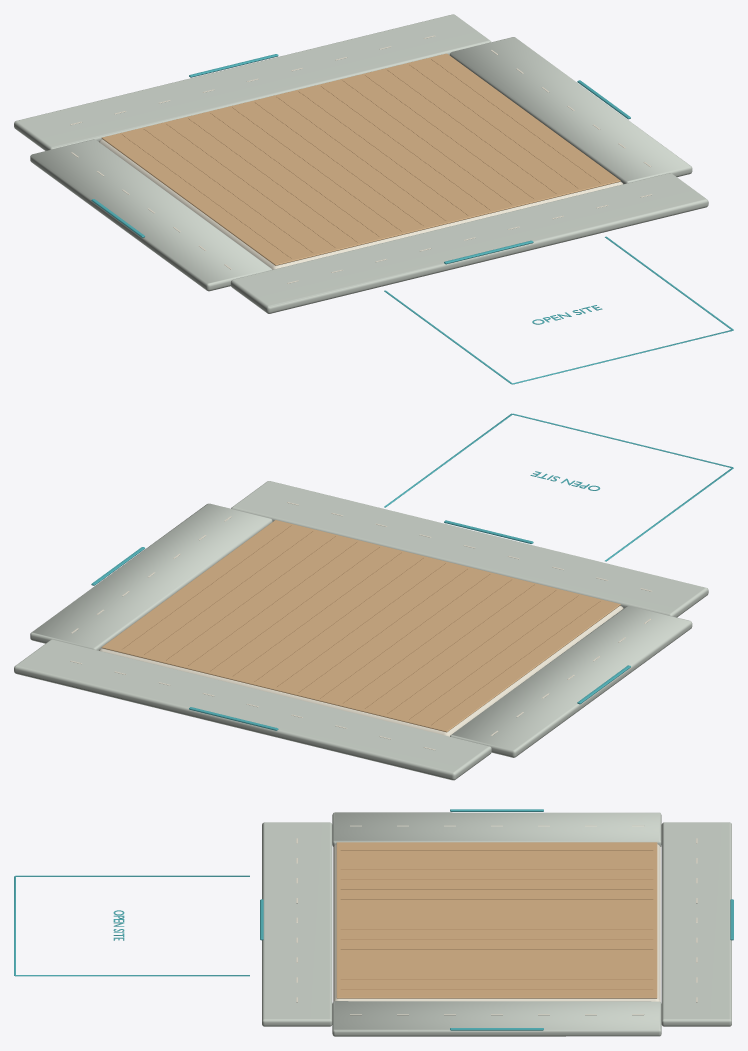
File: lobby.glb
The picture shows the model from 3 angles, top to bottom: view 1: azimuth 30°, elevation 25°; view 2: azimuth 150°, elevation 25°; view 3: azimuth 270°, elevation 25°; orthographic projection. The views are drawn at different scales.
Visible parts, largest first — view 1: Lobby / ash floor.001, Loop / south.001, Loop / north.001, Loop / west.001, Loop / east.001, Lobby / floating plinth.001; view 2: Lobby / ash floor.001, Loop / north.001, Loop / south.001, Loop / west.001, Loop / east.001, Lobby / floating plinth.001; view 3: Lobby / ash floor.001, Loop / north.001, Loop / south.001, Loop / east.001, Loop / west.001, Lobby / floating plinth.001, Vacant / outline.003, Vacant / outline.004.
Part boxes in pixels (left/top/right/bottom): Lobby / ash floor.001: left=101, top=53, right=620, bottom=265; Loop / south.001: left=230, top=173, right=708, bottom=313; Loop / north.001: left=14, top=14, right=491, bottom=150; Loop / west.001: left=30, top=139, right=272, bottom=291; Loop / east.001: left=449, top=37, right=692, bottom=184; Lobby / floating plinth.001: left=99, top=139, right=622, bottom=269; Lobby / ash floor.001: left=101, top=520, right=620, bottom=732; Loop / north.001: left=14, top=639, right=491, bottom=780; Loop / south.001: left=231, top=481, right=708, bottom=617; Loop / west.001: left=450, top=606, right=692, bottom=757; Loop / east.001: left=30, top=503, right=272, bottom=650; Lobby / floating plinth.001: left=99, top=605, right=623, bottom=736; Lobby / ash floor.001: left=336, top=842, right=657, bottom=998; Loop / north.001: left=661, top=822, right=731, bottom=1026; Loop / south.001: left=262, top=822, right=332, bottom=1026; Loop / east.001: left=332, top=1001, right=661, bottom=1036; Loop / west.001: left=332, top=812, right=661, bottom=846; Lobby / floating plinth.001: left=333, top=844, right=660, bottom=1001; Vacant / outline.003: left=15, top=875, right=249, bottom=876; Vacant / outline.004: left=15, top=975, right=249, bottom=976.
Size of the model in its own units: 22.16 by 0.64 by 30.62.
